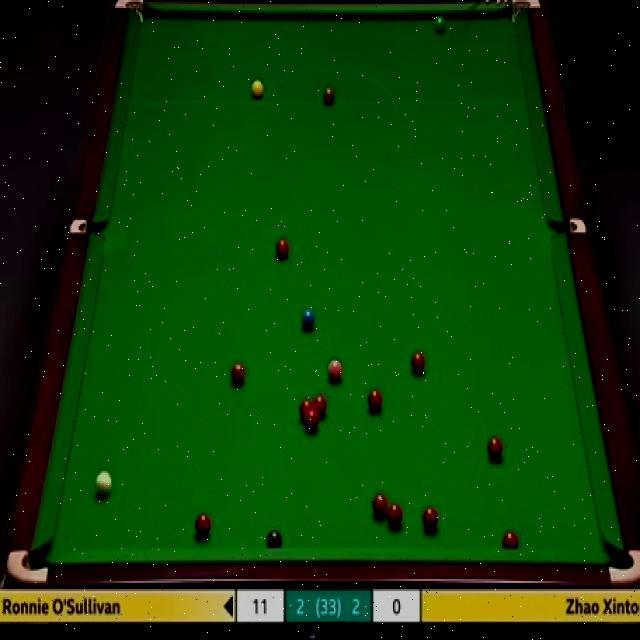black-ball: (266, 526, 284, 550)
blue-ball: (300, 308, 316, 333)
brown-ball: (321, 84, 335, 107)
green-ball: (432, 15, 448, 35)
pink-ball: (328, 355, 343, 383)
red-ball: (386, 501, 404, 532), (409, 350, 426, 379), (421, 506, 438, 534), (372, 492, 388, 519), (486, 435, 502, 461), (367, 388, 382, 414), (196, 512, 211, 538), (313, 395, 328, 420), (230, 363, 245, 387), (275, 237, 290, 261), (503, 529, 519, 550), (305, 412, 319, 432), (300, 399, 313, 420)
white-ball: (93, 471, 111, 498)
yellow-ball: (249, 78, 264, 99)
